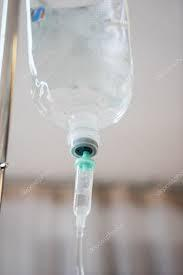Iv_Bottle: (26, 0, 132, 156)
